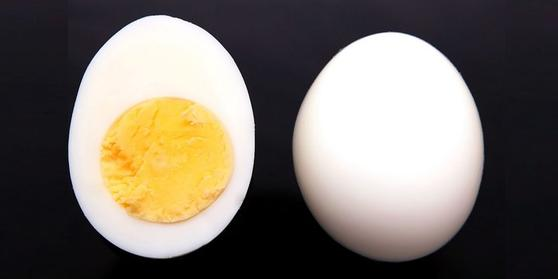egg: (286, 32, 483, 262)
